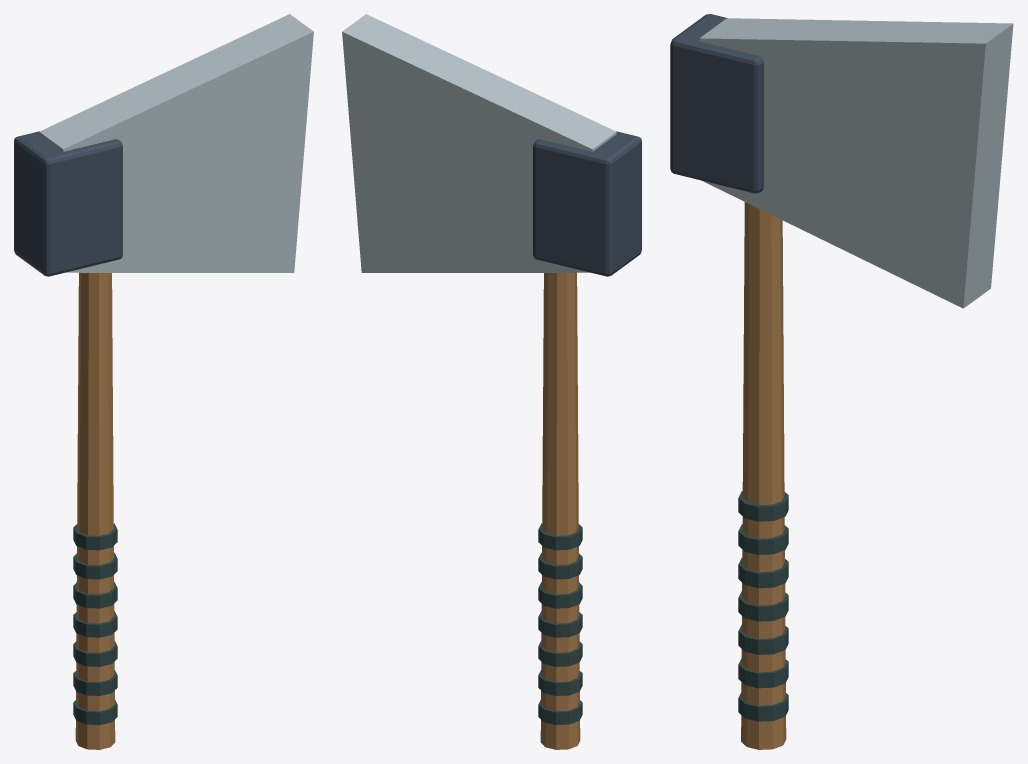
File: axe.glb
3 views of the same model, side by side, from view 1: azimuth 30°, elevation 25°; view 2: azimuth 150°, elevation 25°; view 3: azimuth 330°, elevation 25° (orthographic). The views are drawn at different scales.
Parts seen in each view (by area): view 1: axe; view 2: axe; view 3: axe.
Part boxes in pixels (box(x1,y1,x2,y2)): axe: box(14, 14, 313, 749); axe: box(342, 14, 641, 749); axe: box(670, 14, 1013, 749).
Bounding box in the file's own units: 0.555 × 1.3 × 0.12.
